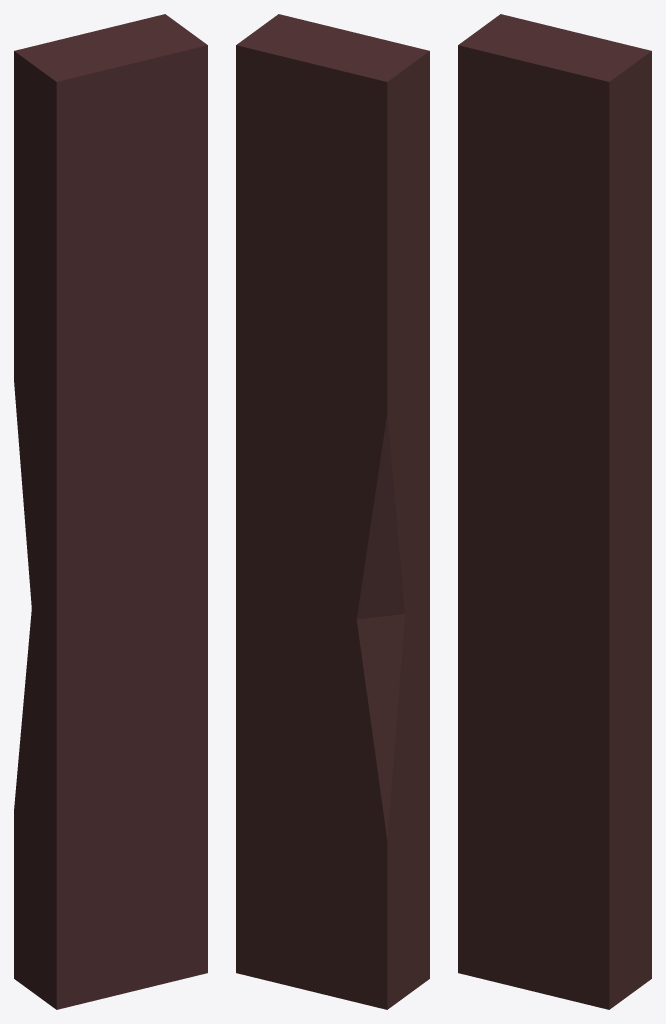
File: SM_Env_Wood_03.fbx
3 views of the same model, side by side, from view 1: azimuth 30°, elevation 25°; view 2: azimuth 150°, elevation 25°; view 3: azimuth 330°, elevation 25° (orthographic).
Parts seen in each view (by area): view 1: SM_Env_Wood_03; view 2: SM_Env_Wood_03; view 3: SM_Env_Wood_03.
Boxes of the visible parts, x1=… form: SM_Env_Wood_03: x1=14, y1=14, x2=207, y2=1009; SM_Env_Wood_03: x1=236, y1=14, x2=429, y2=1009; SM_Env_Wood_03: x1=458, y1=14, x2=651, y2=1009.
Bounding box in the file's own units: 5.45 × 31.95 × 2.66.
Materials: 1 (1 with a texture image).
